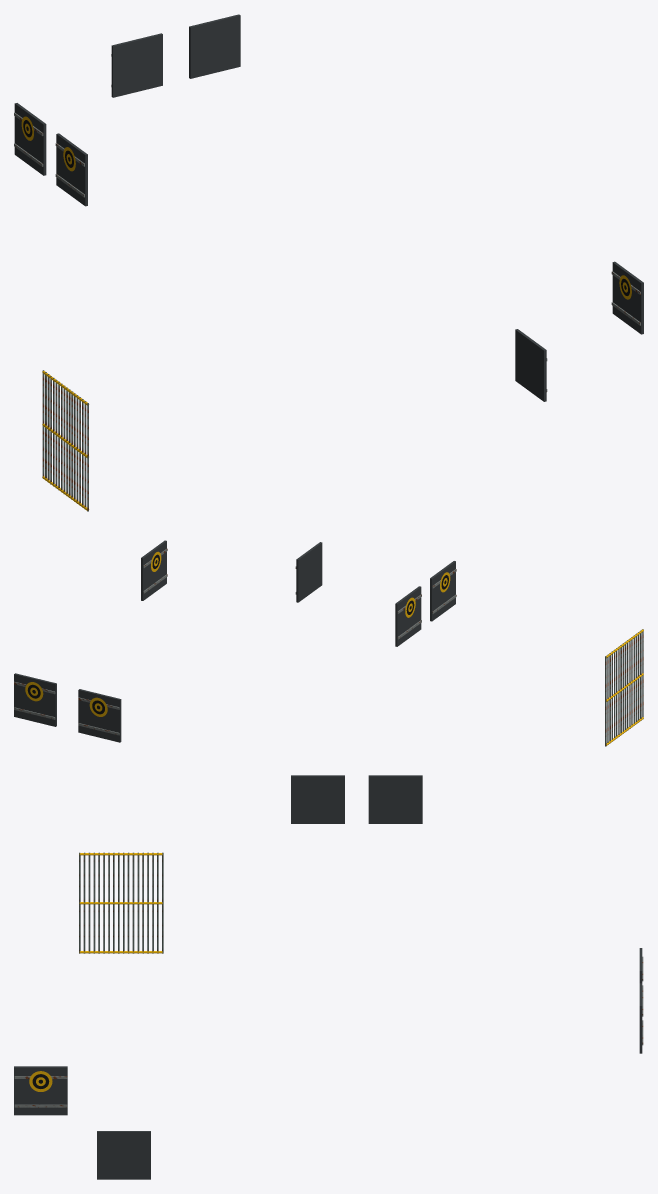
The model's file is inseguimento_mobili.glb.
3 views of the same model, one above another, from view 1: azimuth 30°, elevation 25°; view 2: azimuth 150°, elevation 25°; view 3: azimuth 270°, elevation 25° (orthographic). The views are drawn at different scales.
Parts seen in each view (by area): view 1: ins_grata, ins_paratia_2, ins_paratia_3, ins_paratia_0, ins_paratia_1, ins_paratia_4, ins_paratia_5; view 2: ins_grata, ins_paratia_3, ins_paratia_2, ins_paratia_4, ins_paratia_0, ins_paratia_5, ins_paratia_1; view 3: ins_grata, ins_paratia_4, ins_paratia_0, ins_paratia_1, ins_paratia_5.
Part boxes in pixels (x1,y1,x2,y2): ins_grata: (42,370,89,511); ins_paratia_2: (189,14,240,78); ins_paratia_3: (111,33,162,97); ins_paratia_0: (14,103,46,175); ins_paratia_1: (55,133,87,206); ins_paratia_4: (515,329,547,401); ins_paratia_5: (611,261,643,334); ins_grata: (605,629,643,746); ins_paratia_3: (78,689,121,742); ins_paratia_2: (14,673,56,726); ins_paratia_4: (295,542,322,602); ins_paratia_0: (395,586,421,646); ins_paratia_5: (141,540,167,600); ins_paratia_1: (430,561,456,621); ins_grata: (79,852,163,953); ins_paratia_4: (14,1066,67,1115); ins_paratia_0: (368,775,422,823); ins_paratia_1: (291,775,344,823); ins_paratia_5: (97,1131,150,1179).
Size of what is drawn, in the model's own units: 21.94 by 9.1 by 22.73.
5 materials, 2 textured.
